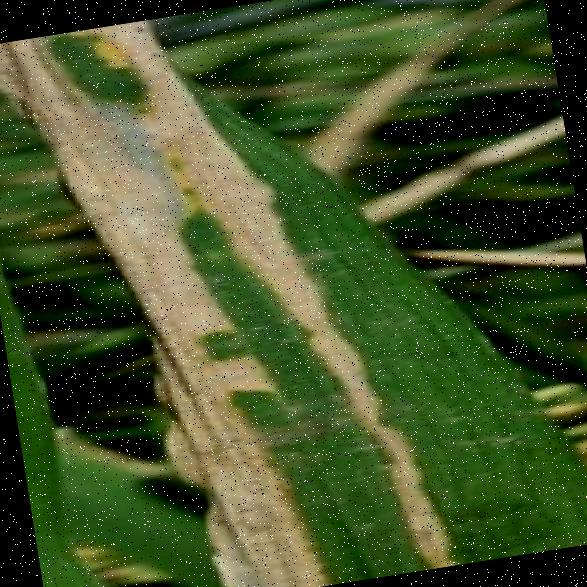Bacteria_Leaf_Blight: (54, 0, 534, 587)
